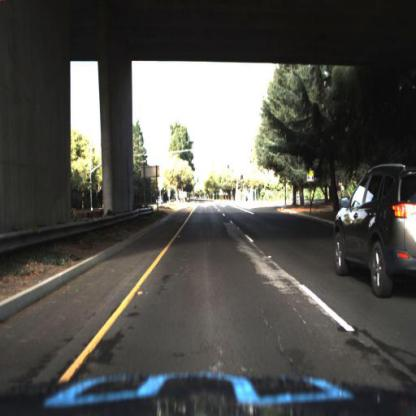car: (334, 161, 416, 300), (156, 193, 166, 208)
trafficLight-Green: (240, 172, 245, 190)
